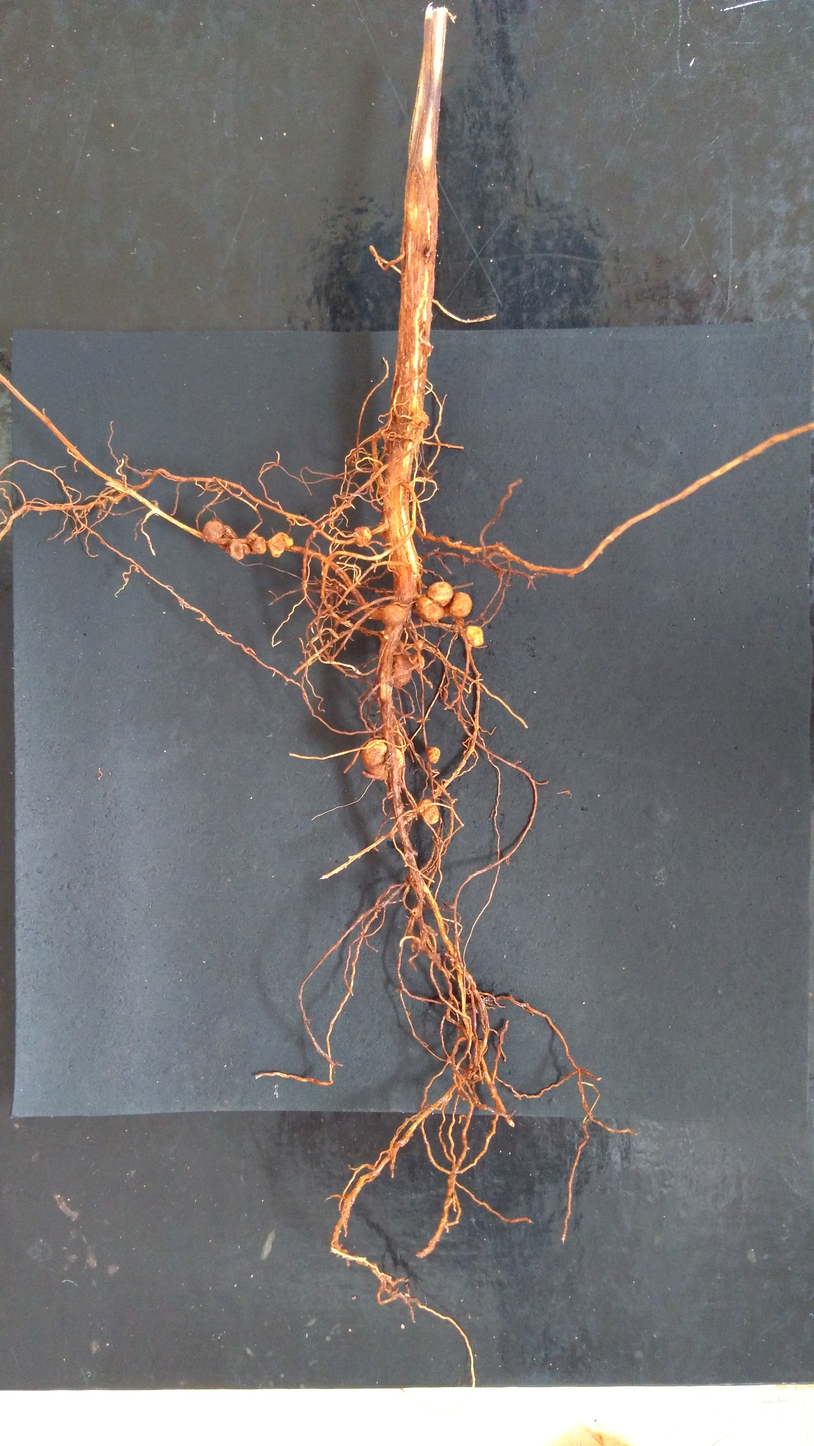nodule: (361, 739, 389, 780), (202, 520, 238, 550), (416, 596, 444, 622), (392, 653, 413, 687), (427, 581, 453, 607), (267, 532, 293, 558), (449, 591, 473, 617), (381, 604, 408, 627), (418, 798, 439, 824), (245, 532, 267, 555), (463, 625, 484, 647), (229, 539, 251, 560), (353, 525, 373, 547), (411, 410, 429, 430), (426, 746, 441, 764), (409, 652, 424, 669), (394, 748, 405, 769), (392, 640, 405, 656), (478, 1040, 488, 1055), (412, 639, 424, 651), (409, 907, 422, 918)
